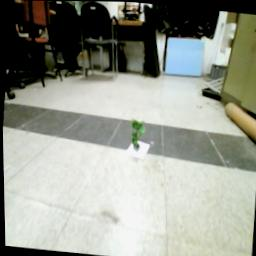herb: (128, 117, 147, 150)
